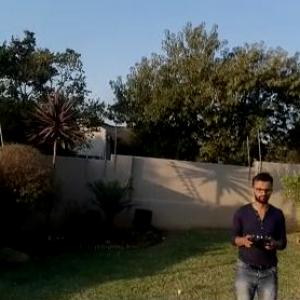follow: (227, 169, 290, 299)
